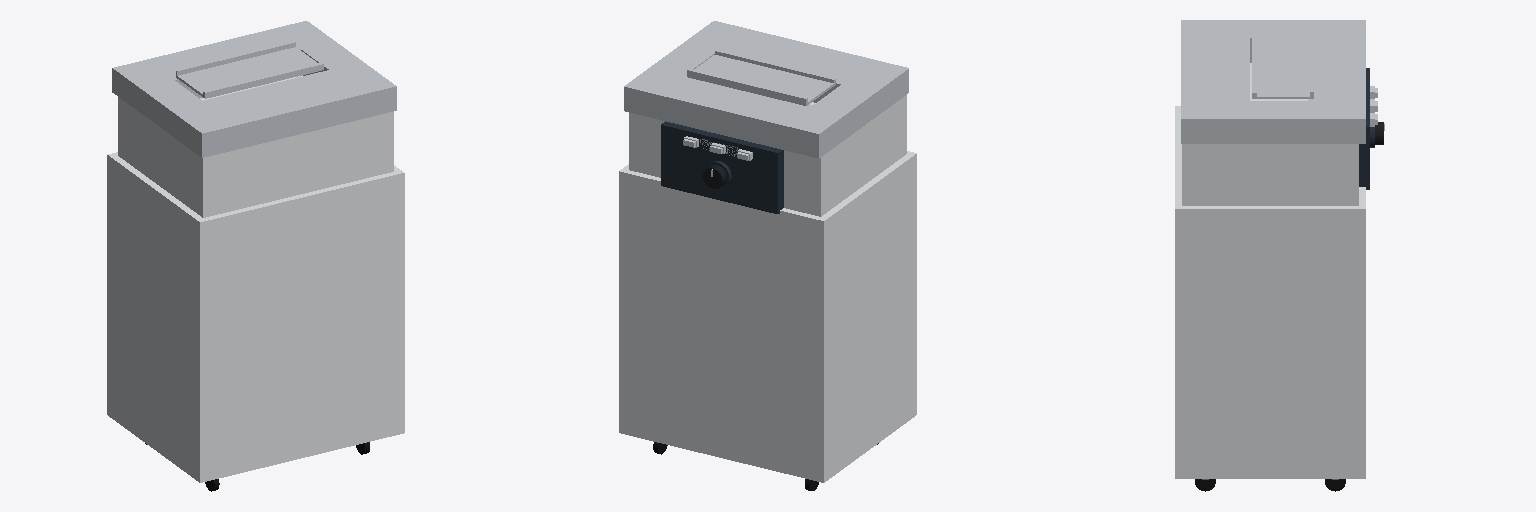
URDF robot description (portable_room_ac):
<robot name="portable_room_ac">
  <material name="shell">
    <color rgba="0.9 0.91 0.92 1" />
    </material>
  <material name="trim">
    <color rgba="0.79 0.81 0.83 1" />
    </material>
  <material name="panel">
    <color rgba="0.2 0.24 0.28 1" />
    </material>
  <material name="vent">
    <color rgba="0.18 0.2 0.22 1" />
    </material>
  <material name="wheel">
    <color rgba="0.12 0.12 0.13 1" />
    </material>
  <material name="fork">
    <color rgba="0.55 0.57 0.6 1" />
    </material>
  <material name="control">
    <color rgba="0.83 0.85 0.87 1" />
    </material>
  <material name="dial_finish">
    <color rgba="0.16 0.17 0.18 1" />
    </material>
  <material name="indicator">
    <color rgba="0.9 0.92 0.95 1" />
    </material>
  <link name="body">
    <visual name="lower_shell">
      <origin xyz="0 0 0.304" rpy="0 0 0" />
      <geometry>
        <box size="0.42 0.33 0.512" />
        </geometry>
      <material name="shell">
        <color rgba="0.9 0.91 0.92 1" />
        </material>
      </visual>
    <visual name="upper_shell">
      <origin xyz="0 0 0.62" rpy="0 0 0" />
      <geometry>
        <box size="0.392 0.304 0.12" />
        </geometry>
      <material name="shell">
        <color rgba="0.9 0.91 0.92 1" />
        </material>
      </visual>
    <visual name="front_top">
      <origin xyz="0 0.115 0.704" rpy="0 0 0" />
      <geometry>
        <box size="0.4 0.1 0.048" />
        </geometry>
      <material name="trim">
        <color rgba="0.79 0.81 0.83 1" />
        </material>
      </visual>
    <visual name="rear_top">
      <origin xyz="0 -0.095 0.704" rpy="0 0 0" />
      <geometry>
        <box size="0.4 0.12 0.048" />
        </geometry>
      <material name="trim">
        <color rgba="0.79 0.81 0.83 1" />
        </material>
      </visual>
    <visual name="left_top">
      <origin xyz="-0.165 0 0.704" rpy="0 0 0" />
      <geometry>
        <box size="0.07 0.31 0.048" />
        </geometry>
      <material name="trim">
        <color rgba="0.79 0.81 0.83 1" />
        </material>
      </visual>
    <visual name="right_top">
      <origin xyz="0.165 0 0.704" rpy="0 0 0" />
      <geometry>
        <box size="0.07 0.31 0.048" />
        </geometry>
      <material name="trim">
        <color rgba="0.79 0.81 0.83 1" />
        </material>
      </visual>
    <visual name="grille">
      <origin xyz="0 0.02 0.704" rpy="0 0 0" />
      <geometry>
        <mesh filename="assets/meshes/portable_ac_top_grille.obj" />
        </geometry>
      <material name="vent">
        <color rgba="0.18 0.2 0.22 1" />
        </material>
      </visual>
    <visual name="panel">
      <origin xyz="0 0.162 0.615" rpy="0 0 0" />
      <geometry>
        <box size="0.24 0.02 0.12" />
        </geometry>
      <material name="panel">
        <color rgba="0.2 0.24 0.28 1" />
        </material>
      </visual>
    <visual name="display_strip">
      <origin xyz="0 0.169 0.657" rpy="0 0 0" />
      <geometry>
        <box size="0.08 0.006 0.02" />
        </geometry>
      <material name="trim">
        <color rgba="0.79 0.81 0.83 1" />
        </material>
      </visual>
    <visual name="side_cap_0">
      <origin xyz="-0.176 0 0.55" rpy="0 0 0" />
      <geometry>
        <box size="0.012 0.045 0.09" />
        </geometry>
      <material name="trim">
        <color rgba="0.79 0.81 0.83 1" />
        </material>
      </visual>
    <visual name="side_cap_1">
      <origin xyz="0.176 0 0.55" rpy="0 0 0" />
      <geometry>
        <box size="0.012 0.045 0.09" />
        </geometry>
      <material name="trim">
        <color rgba="0.79 0.81 0.83 1" />
        </material>
      </visual>
    <visual name="stem_nn">
      <origin xyz="-0.155 -0.112 0.041" rpy="0 0 0" />
      <geometry>
        <cylinder radius="0.005" length="0.014" />
        </geometry>
      <material name="fork">
        <color rgba="0.55 0.57 0.6 1" />
        </material>
      </visual>
    <visual name="fork_nn">
      <origin xyz="-0.155 -0.112 0.029" rpy="0 0 0" />
      <geometry>
        <box size="0.018 0.012 0.01" />
        </geometry>
      <material name="fork">
        <color rgba="0.55 0.57 0.6 1" />
        </material>
      </visual>
    <visual name="wheel_nn">
      <origin xyz="-0.155 -0.112 0.018" rpy="0 1.5708 0" />
      <geometry>
        <cylinder radius="0.018" length="0.01" />
        </geometry>
      <material name="wheel">
        <color rgba="0.12 0.12 0.13 1" />
        </material>
      </visual>
    <visual name="stem_pn">
      <origin xyz="0.155 -0.112 0.041" rpy="0 0 0" />
      <geometry>
        <cylinder radius="0.005" length="0.014" />
        </geometry>
      <material name="fork">
        <color rgba="0.55 0.57 0.6 1" />
        </material>
      </visual>
    <visual name="fork_pn">
      <origin xyz="0.155 -0.112 0.029" rpy="0 0 0" />
      <geometry>
        <box size="0.018 0.012 0.01" />
        </geometry>
      <material name="fork">
        <color rgba="0.55 0.57 0.6 1" />
        </material>
      </visual>
    <visual name="wheel_pn">
      <origin xyz="0.155 -0.112 0.018" rpy="0 1.5708 0" />
      <geometry>
        <cylinder radius="0.018" length="0.01" />
        </geometry>
      <material name="wheel">
        <color rgba="0.12 0.12 0.13 1" />
        </material>
      </visual>
    <visual name="stem_np">
      <origin xyz="-0.155 0.112 0.041" rpy="0 0 0" />
      <geometry>
        <cylinder radius="0.005" length="0.014" />
        </geometry>
      <material name="fork">
        <color rgba="0.55 0.57 0.6 1" />
        </material>
      </visual>
    <visual name="fork_np">
      <origin xyz="-0.155 0.112 0.029" rpy="0 0 0" />
      <geometry>
        <box size="0.018 0.012 0.01" />
        </geometry>
      <material name="fork">
        <color rgba="0.55 0.57 0.6 1" />
        </material>
      </visual>
    <visual name="wheel_np">
      <origin xyz="-0.155 0.112 0.018" rpy="0 1.5708 0" />
      <geometry>
        <cylinder radius="0.018" length="0.01" />
        </geometry>
      <material name="wheel">
        <color rgba="0.12 0.12 0.13 1" />
        </material>
      </visual>
    <visual name="stem_pp">
      <origin xyz="0.155 0.112 0.041" rpy="0 0 0" />
      <geometry>
        <cylinder radius="0.005" length="0.014" />
        </geometry>
      <material name="fork">
        <color rgba="0.55 0.57 0.6 1" />
        </material>
      </visual>
    <visual name="fork_pp">
      <origin xyz="0.155 0.112 0.029" rpy="0 0 0" />
      <geometry>
        <box size="0.018 0.012 0.01" />
        </geometry>
      <material name="fork">
        <color rgba="0.55 0.57 0.6 1" />
        </material>
      </visual>
    <visual name="wheel_pp">
      <origin xyz="0.155 0.112 0.018" rpy="0 1.5708 0" />
      <geometry>
        <cylinder radius="0.018" length="0.01" />
        </geometry>
      <material name="wheel">
        <color rgba="0.12 0.12 0.13 1" />
        </material>
      </visual>
    <collision name="lower_shell">
      <origin xyz="0 0 0.304" rpy="0 0 0" />
      <geometry>
        <box size="0.42 0.33 0.512" />
        </geometry>
      </collision>
    <collision name="upper_shell">
      <origin xyz="0 0 0.62" rpy="0 0 0" />
      <geometry>
        <box size="0.392 0.304 0.12" />
        </geometry>
      </collision>
    <collision name="front_top">
      <origin xyz="0 0.115 0.704" rpy="0 0 0" />
      <geometry>
        <box size="0.4 0.1 0.048" />
        </geometry>
      </collision>
    <collision name="rear_top">
      <origin xyz="0 -0.095 0.704" rpy="0 0 0" />
      <geometry>
        <box size="0.4 0.12 0.048" />
        </geometry>
      </collision>
    <collision name="left_top">
      <origin xyz="-0.165 0 0.704" rpy="0 0 0" />
      <geometry>
        <box size="0.07 0.31 0.048" />
        </geometry>
      </collision>
    <collision name="right_top">
      <origin xyz="0.165 0 0.704" rpy="0 0 0" />
      <geometry>
        <box size="0.07 0.31 0.048" />
        </geometry>
      </collision>
    <collision name="grille">
      <origin xyz="0 0.02 0.704" rpy="0 0 0" />
      <geometry>
        <mesh filename="assets/meshes/portable_ac_top_grille.obj" />
        </geometry>
      </collision>
    <collision name="panel">
      <origin xyz="0 0.162 0.615" rpy="0 0 0" />
      <geometry>
        <box size="0.24 0.02 0.12" />
        </geometry>
      </collision>
    <collision name="display_strip">
      <origin xyz="0 0.169 0.657" rpy="0 0 0" />
      <geometry>
        <box size="0.08 0.006 0.02" />
        </geometry>
      </collision>
    <collision name="side_cap_0">
      <origin xyz="-0.176 0 0.55" rpy="0 0 0" />
      <geometry>
        <box size="0.012 0.045 0.09" />
        </geometry>
      </collision>
    <collision name="side_cap_1">
      <origin xyz="0.176 0 0.55" rpy="0 0 0" />
      <geometry>
        <box size="0.012 0.045 0.09" />
        </geometry>
      </collision>
    <collision name="stem_nn">
      <origin xyz="-0.155 -0.112 0.041" rpy="0 0 0" />
      <geometry>
        <cylinder radius="0.005" length="0.014" />
        </geometry>
      </collision>
    <collision name="fork_nn">
      <origin xyz="-0.155 -0.112 0.029" rpy="0 0 0" />
      <geometry>
        <box size="0.018 0.012 0.01" />
        </geometry>
      </collision>
    <collision name="wheel_nn">
      <origin xyz="-0.155 -0.112 0.018" rpy="0 1.5708 0" />
      <geometry>
        <cylinder radius="0.018" length="0.01" />
        </geometry>
      </collision>
    <collision name="stem_pn">
      <origin xyz="0.155 -0.112 0.041" rpy="0 0 0" />
      <geometry>
        <cylinder radius="0.005" length="0.014" />
        </geometry>
      </collision>
    <collision name="fork_pn">
      <origin xyz="0.155 -0.112 0.029" rpy="0 0 0" />
      <geometry>
        <box size="0.018 0.012 0.01" />
        </geometry>
      </collision>
    <collision name="wheel_pn">
      <origin xyz="0.155 -0.112 0.018" rpy="0 1.5708 0" />
      <geometry>
        <cylinder radius="0.018" length="0.01" />
        </geometry>
      </collision>
    <collision name="stem_np">
      <origin xyz="-0.155 0.112 0.041" rpy="0 0 0" />
      <geometry>
        <cylinder radius="0.005" length="0.014" />
        </geometry>
      </collision>
    <collision name="fork_np">
      <origin xyz="-0.155 0.112 0.029" rpy="0 0 0" />
      <geometry>
        <box size="0.018 0.012 0.01" />
        </geometry>
      </collision>
    <collision name="wheel_np">
      <origin xyz="-0.155 0.112 0.018" rpy="0 1.5708 0" />
      <geometry>
        <cylinder radius="0.018" length="0.01" />
        </geometry>
      </collision>
    <collision name="stem_pp">
      <origin xyz="0.155 0.112 0.041" rpy="0 0 0" />
      <geometry>
        <cylinder radius="0.005" length="0.014" />
        </geometry>
      </collision>
    <collision name="fork_pp">
      <origin xyz="0.155 0.112 0.029" rpy="0 0 0" />
      <geometry>
        <box size="0.018 0.012 0.01" />
        </geometry>
      </collision>
    <collision name="wheel_pp">
      <origin xyz="0.155 0.112 0.018" rpy="0 1.5708 0" />
      <geometry>
        <cylinder radius="0.018" length="0.01" />
        </geometry>
      </collision>
    </link>
  <link name="flap">
    <visual name="panel">
      <origin xyz="0 -0.053 0.0025" rpy="0 0 0" />
      <geometry>
        <box size="0.244 0.106 0.005" />
        </geometry>
      <material name="trim">
        <color rgba="0.79 0.81 0.83 1" />
        </material>
      </visual>
    <visual name="nose">
      <origin xyz="0 -0.003 0.007" rpy="0 0 0" />
      <geometry>
        <box size="0.244 0.006 0.014" />
        </geometry>
      <material name="trim">
        <color rgba="0.79 0.81 0.83 1" />
        </material>
      </visual>
    <visual name="rear_lip">
      <origin xyz="0 -0.102 0.006" rpy="0 0 0" />
      <geometry>
        <box size="0.244 0.008 0.012" />
        </geometry>
      <material name="trim">
        <color rgba="0.79 0.81 0.83 1" />
        </material>
      </visual>
    <collision name="panel">
      <origin xyz="0 -0.053 0.0025" rpy="0 0 0" />
      <geometry>
        <box size="0.244 0.106 0.005" />
        </geometry>
      </collision>
    <collision name="nose">
      <origin xyz="0 -0.003 0.007" rpy="0 0 0" />
      <geometry>
        <box size="0.244 0.006 0.014" />
        </geometry>
      </collision>
    <collision name="rear_lip">
      <origin xyz="0 -0.102 0.006" rpy="0 0 0" />
      <geometry>
        <box size="0.244 0.008 0.012" />
        </geometry>
      </collision>
    </link>
  <link name="dial">
    <visual name="skirt">
      <origin xyz="0 0.004 0" rpy="-1.5708 0 0" />
      <geometry>
        <cylinder radius="0.025" length="0.008" />
        </geometry>
      <material name="panel">
        <color rgba="0.2 0.24 0.28 1" />
        </material>
      </visual>
    <visual name="knob">
      <origin xyz="0 0.014 0" rpy="-1.5708 0 0" />
      <geometry>
        <cylinder radius="0.02" length="0.02" />
        </geometry>
      <material name="dial_finish">
        <color rgba="0.16 0.17 0.18 1" />
        </material>
      </visual>
    <visual name="indicator">
      <origin xyz="0 0.0245 0.011" rpy="0 0 0" />
      <geometry>
        <box size="0.003 0.003 0.014" />
        </geometry>
      <material name="indicator">
        <color rgba="0.9 0.92 0.95 1" />
        </material>
      </visual>
    <collision name="skirt">
      <origin xyz="0 0.004 0" rpy="-1.5708 0 0" />
      <geometry>
        <cylinder radius="0.025" length="0.008" />
        </geometry>
      </collision>
    <collision name="knob">
      <origin xyz="0 0.014 0" rpy="-1.5708 0 0" />
      <geometry>
        <cylinder radius="0.02" length="0.02" />
        </geometry>
      </collision>
    <collision name="indicator">
      <origin xyz="0 0.0245 0.011" rpy="0 0 0" />
      <geometry>
        <box size="0.003 0.003 0.014" />
        </geometry>
      </collision>
    </link>
  <link name="button_0">
    <visual name="base">
      <origin xyz="0 0.004 0.007" rpy="0 0 0" />
      <geometry>
        <box size="0.026 0.008 0.014" />
        </geometry>
      <material name="control">
        <color rgba="0.83 0.85 0.87 1" />
        </material>
      </visual>
    <visual name="cap">
      <origin xyz="0 0.011 0.007" rpy="0 0 0" />
      <geometry>
        <box size="0.022 0.006 0.01" />
        </geometry>
      <material name="control">
        <color rgba="0.83 0.85 0.87 1" />
        </material>
      </visual>
    <collision name="base">
      <origin xyz="0 0.004 0.007" rpy="0 0 0" />
      <geometry>
        <box size="0.026 0.008 0.014" />
        </geometry>
      </collision>
    <collision name="cap">
      <origin xyz="0 0.011 0.007" rpy="0 0 0" />
      <geometry>
        <box size="0.022 0.006 0.01" />
        </geometry>
      </collision>
    </link>
  <link name="button_1">
    <visual name="base">
      <origin xyz="0 0.004 0.007" rpy="0 0 0" />
      <geometry>
        <box size="0.026 0.008 0.014" />
        </geometry>
      <material name="control">
        <color rgba="0.83 0.85 0.87 1" />
        </material>
      </visual>
    <visual name="cap">
      <origin xyz="0 0.011 0.007" rpy="0 0 0" />
      <geometry>
        <box size="0.022 0.006 0.01" />
        </geometry>
      <material name="control">
        <color rgba="0.83 0.85 0.87 1" />
        </material>
      </visual>
    <collision name="base">
      <origin xyz="0 0.004 0.007" rpy="0 0 0" />
      <geometry>
        <box size="0.026 0.008 0.014" />
        </geometry>
      </collision>
    <collision name="cap">
      <origin xyz="0 0.011 0.007" rpy="0 0 0" />
      <geometry>
        <box size="0.022 0.006 0.01" />
        </geometry>
      </collision>
    </link>
  <link name="button_2">
    <visual name="base">
      <origin xyz="0 0.004 0.007" rpy="0 0 0" />
      <geometry>
        <box size="0.026 0.008 0.014" />
        </geometry>
      <material name="control">
        <color rgba="0.83 0.85 0.87 1" />
        </material>
      </visual>
    <visual name="cap">
      <origin xyz="0 0.011 0.007" rpy="0 0 0" />
      <geometry>
        <box size="0.022 0.006 0.01" />
        </geometry>
      <material name="control">
        <color rgba="0.83 0.85 0.87 1" />
        </material>
      </visual>
    <collision name="base">
      <origin xyz="0 0.004 0.007" rpy="0 0 0" />
      <geometry>
        <box size="0.026 0.008 0.014" />
        </geometry>
      </collision>
    <collision name="cap">
      <origin xyz="0 0.011 0.007" rpy="0 0 0" />
      <geometry>
        <box size="0.022 0.006 0.01" />
        </geometry>
      </collision>
    </link>
  <joint name="body_to_flap" type="revolute">
    <origin xyz="0 0.075 0.728" rpy="0 0 0" />
    <parent link="body" />
    <child link="flap" />
    <axis xyz="-1 0 0" />
    <limit effort="5" velocity="2.5" lower="0" upper="1.2" />
    </joint>
  <joint name="body_to_dial" type="continuous">
    <origin xyz="0 0.172 0.607" rpy="0 0 0" />
    <parent link="body" />
    <child link="dial" />
    <axis xyz="0 1 0" />
    <limit effort="0.25" velocity="6" />
    </joint>
  <joint name="body_to_button_0" type="prismatic">
    <origin xyz="-0.055 0.172 0.651" rpy="0 0 0" />
    <parent link="body" />
    <child link="button_0" />
    <axis xyz="0 -1 0" />
    <limit effort="5" velocity="0.08" lower="0" upper="0.004" />
    </joint>
  <joint name="body_to_button_1" type="prismatic">
    <origin xyz="0 0.172 0.651" rpy="0 0 0" />
    <parent link="body" />
    <child link="button_1" />
    <axis xyz="0 -1 0" />
    <limit effort="5" velocity="0.08" lower="0" upper="0.004" />
    </joint>
  <joint name="body_to_button_2" type="prismatic">
    <origin xyz="0.055 0.172 0.651" rpy="0 0 0" />
    <parent link="body" />
    <child link="button_2" />
    <axis xyz="0 -1 0" />
    <limit effort="5" velocity="0.08" lower="0" upper="0.004" />
    </joint>
  </robot>

--- What the picture shows (computed from the rendered views, not written in the file) ---
The picture shows the robot from 3 angles, left to right: view 1: azimuth 30°, elevation 25°; view 2: azimuth 150°, elevation 25°; view 3: azimuth 270°, elevation 25°; orthographic projection.
Model portable_room_ac with 6 links and 5 joints (1 revolute, 1 continuous, 3 prismatic), rooted at body, posed every joint at zero.
Visible links, largest first — view 1: body, flap; view 2: body, flap, dial; view 3: body, flap.
Link boxes in pixels (x1,y1,x2,y2): body: (107,21,404,491); flap: (176,41,323,98); body: (619,21,916,490); flap: (687,49,835,105); dial: (703,161,731,188); body: (1175,20,1369,491); flap: (1252,32,1313,98).
Bounding box of the posed robot: 0.42 × 0.363 × 0.742 m (x, y, z).
Meshes: 1 distinct files referenced, 0 mesh visuals loaded (none loaded); not drawn: 1 (reference not matched to a file when rendering).
